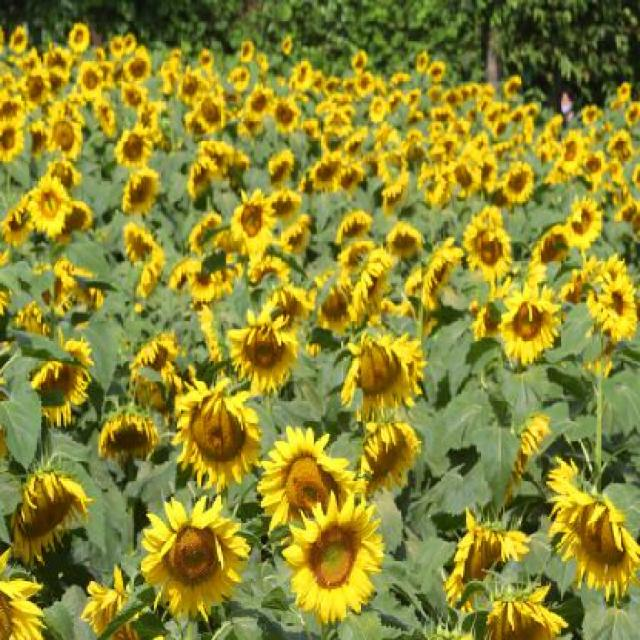sunflower: (540, 448, 640, 612), (138, 486, 256, 622), (258, 414, 356, 555), (290, 492, 388, 630), (172, 373, 262, 489), (10, 468, 94, 567), (338, 332, 428, 422), (494, 280, 566, 369), (357, 413, 422, 500), (460, 225, 516, 284), (232, 189, 274, 252)
